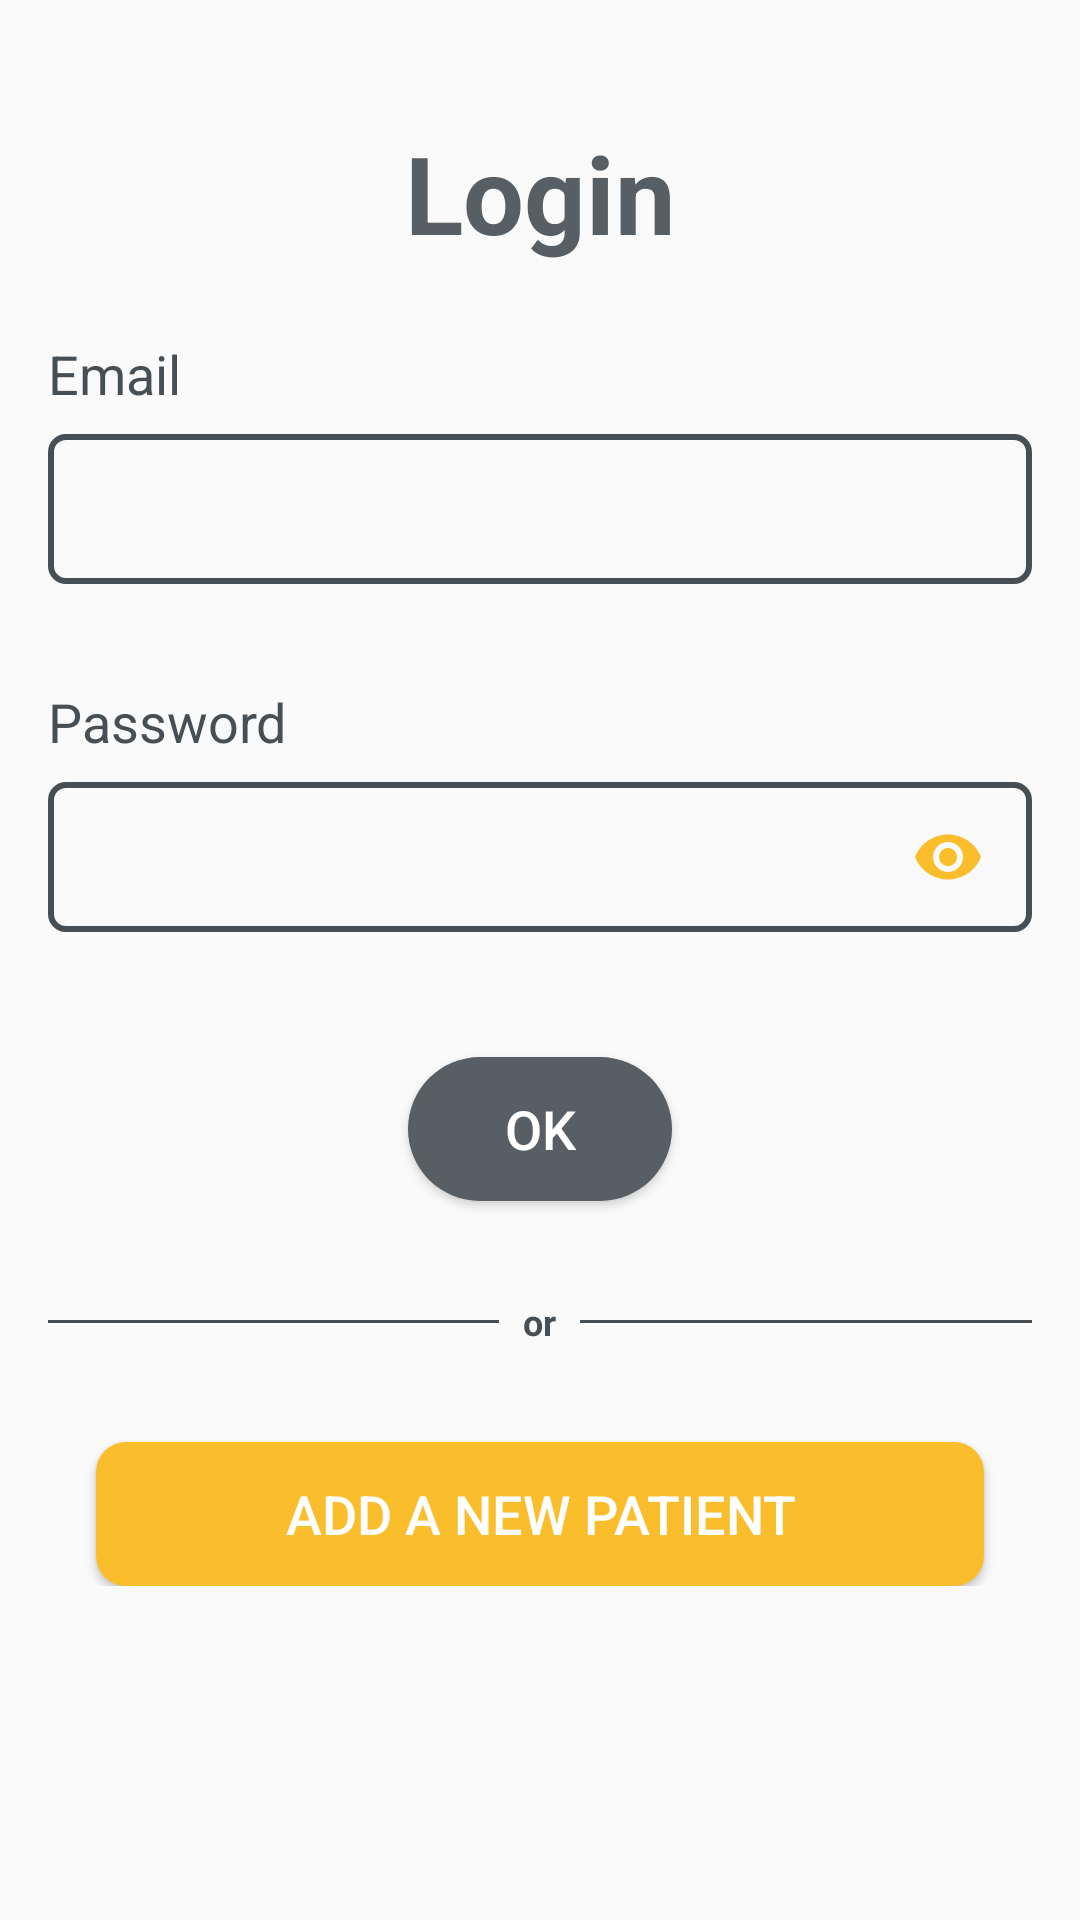

Screen size 1080w x 1920h. Icon name, then its center in pixels as point (x, y):
visibility: point (948, 857)
